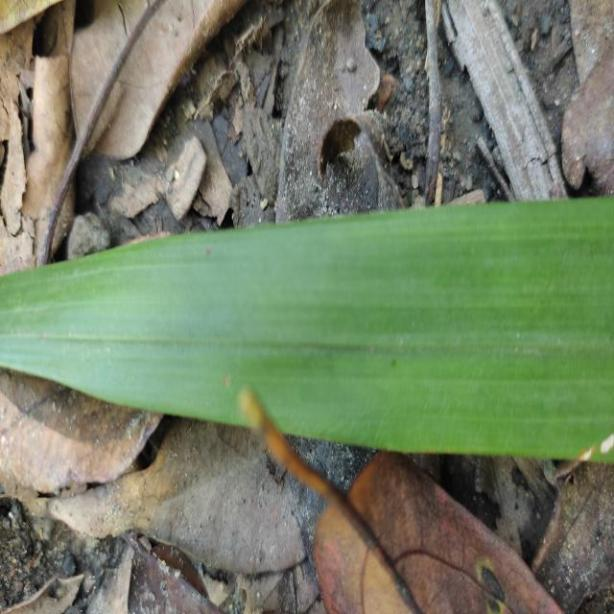Healthy: (0, 197, 614, 462)
